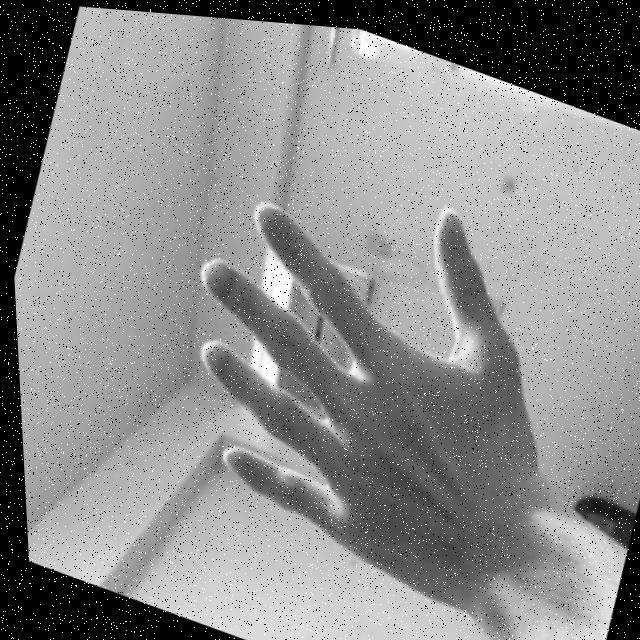no-gloves: (125, 117, 598, 618)
